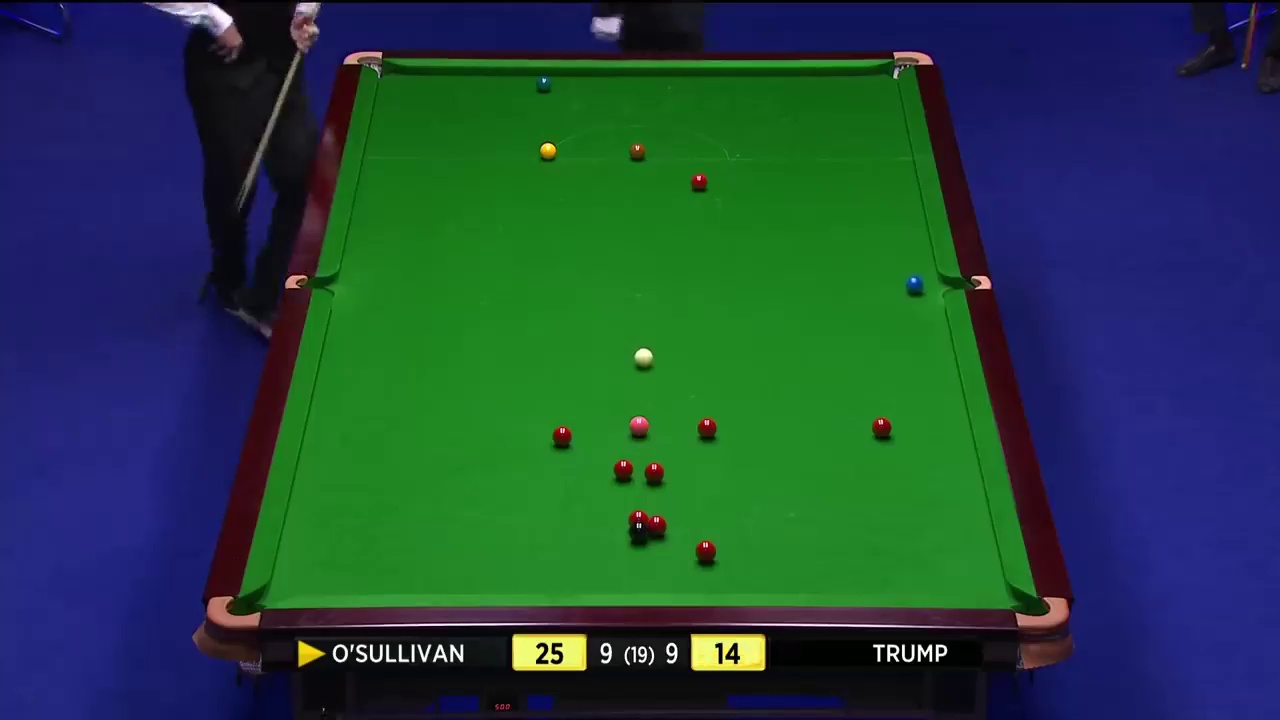ball: (625, 519, 649, 543), (870, 414, 893, 438), (694, 416, 718, 439), (612, 456, 633, 481), (633, 345, 654, 369), (904, 272, 925, 295), (694, 543, 717, 562), (628, 139, 647, 161), (646, 461, 665, 482), (536, 141, 556, 160), (554, 426, 571, 447), (630, 415, 646, 437), (691, 171, 708, 191), (533, 74, 552, 91)
